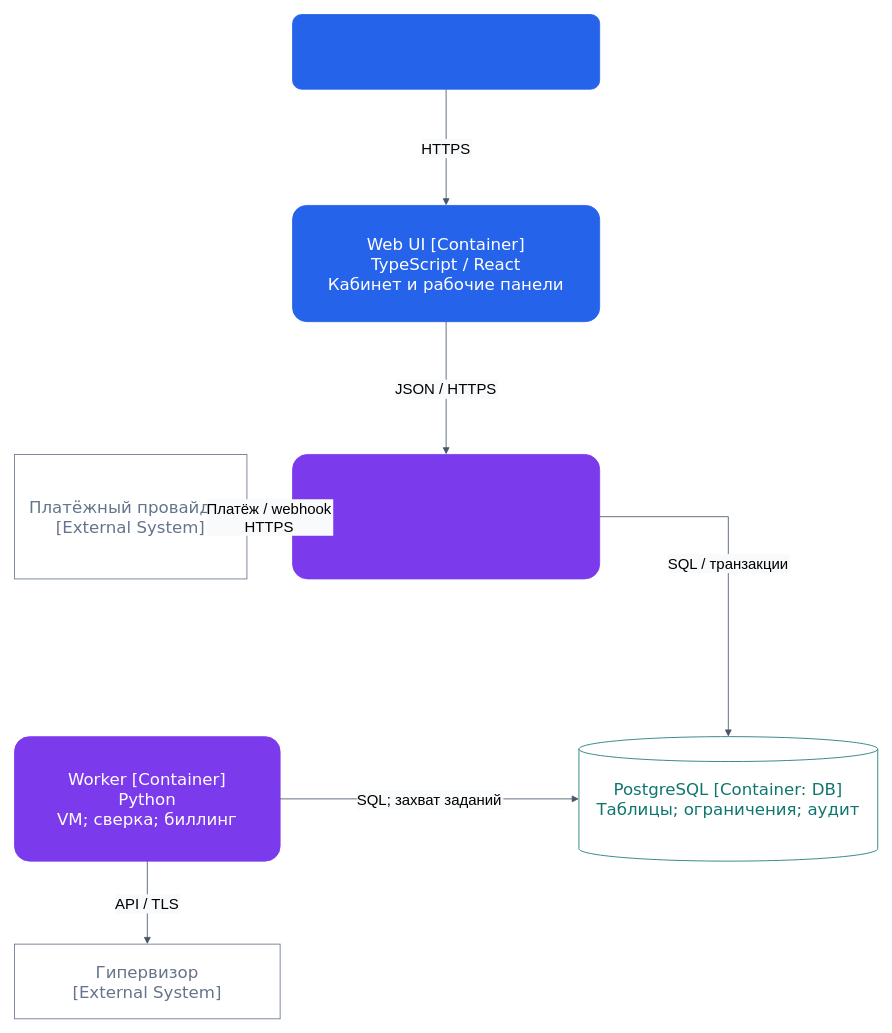
Some shapes in this 892 by 1033 pixel diagram are drawn without their labels. Here are the shapes that lost their labels. From the top down, the centre of each, then its label:
At point 446,51: "Клиент / персонал [Person]".
At point 446,516: "Backend API [Container] Python / FastAPI Правила; доступ; webhook".
